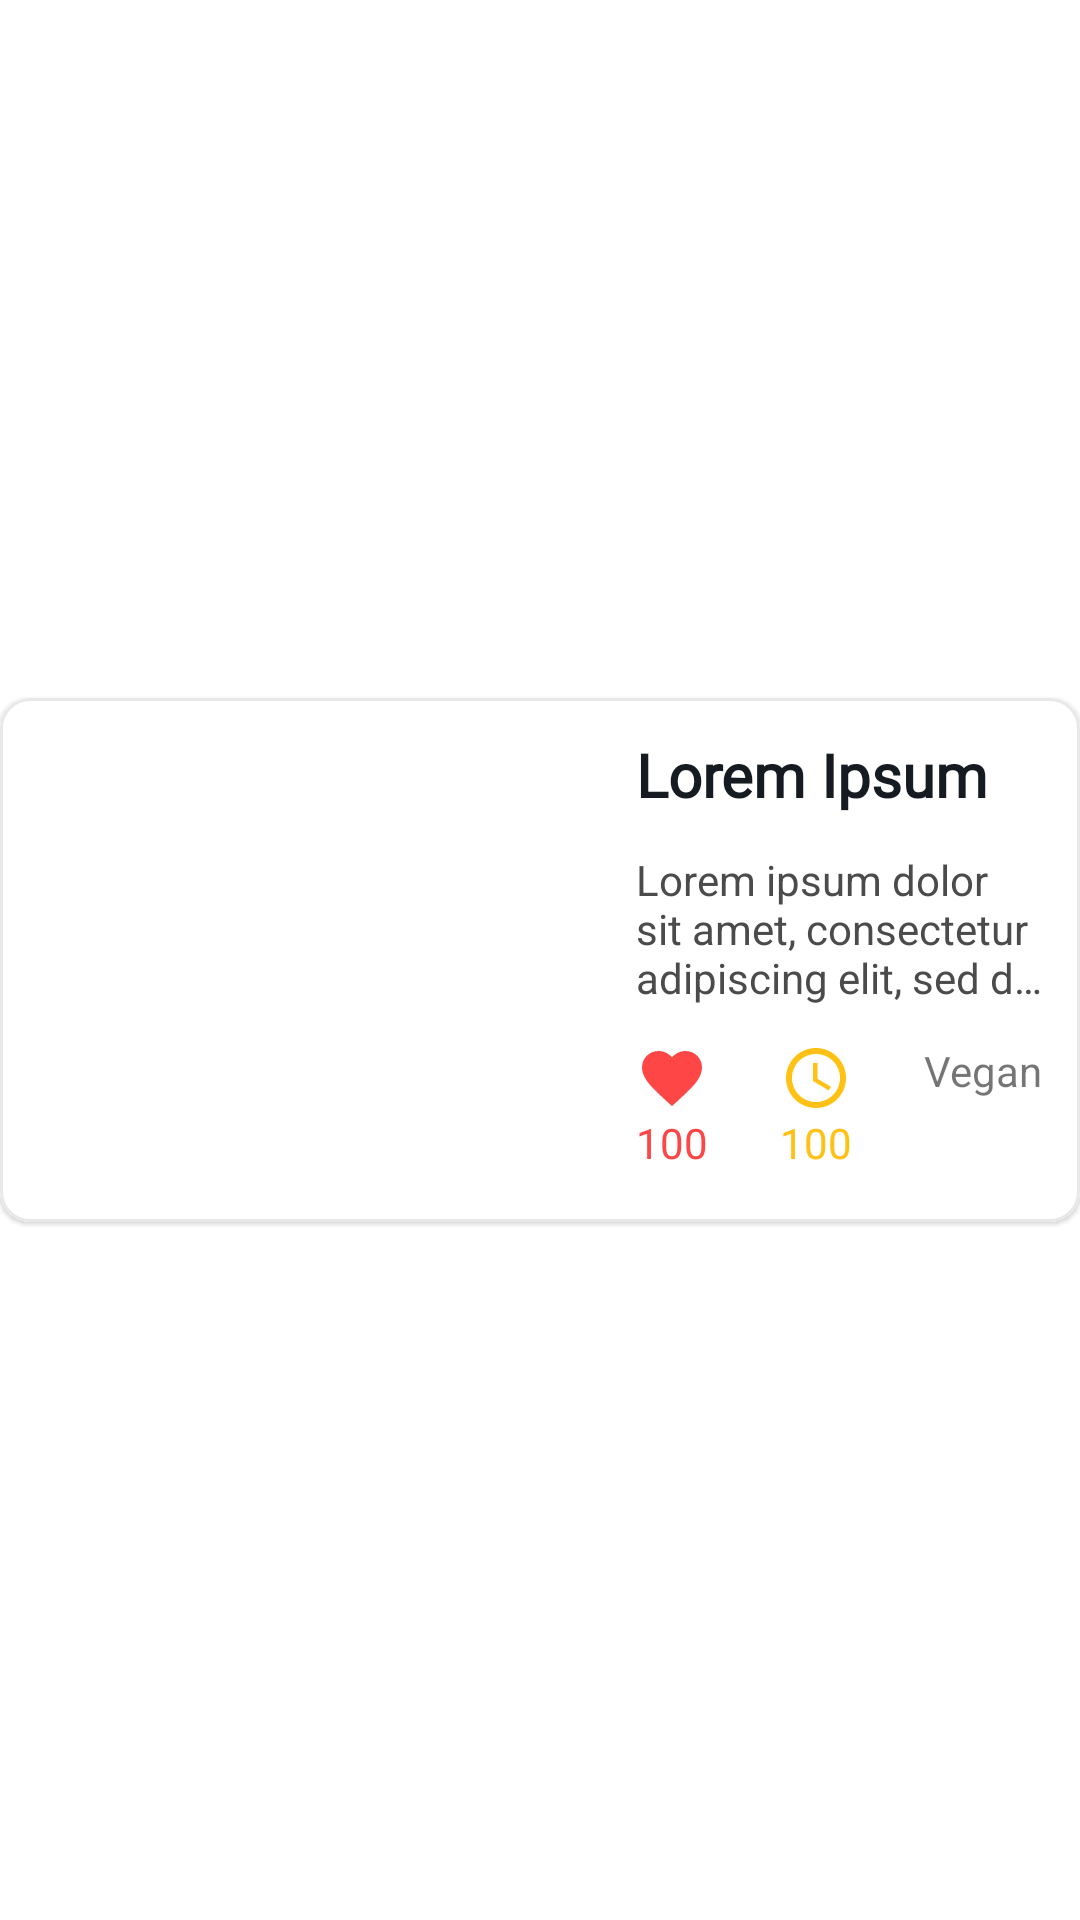

Named icons in this screenshot (1080*1920) and their centers, (x,y):
clock: (816,1078)
heart: (672,1078)
